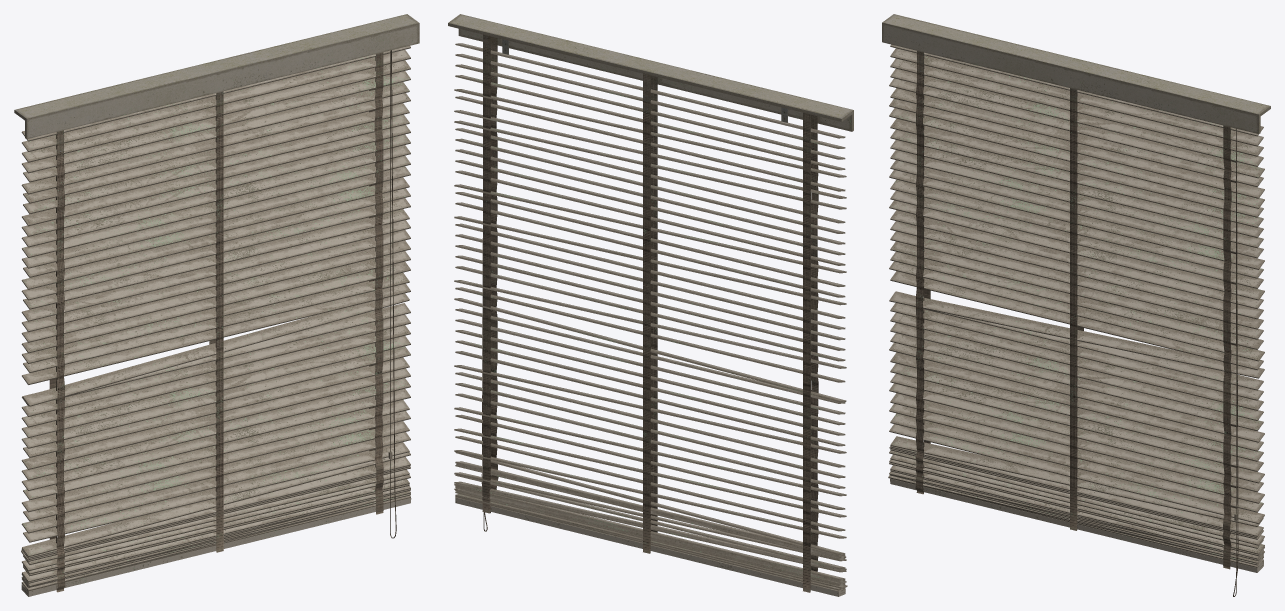
The model's file is JalousieC.fbx.
3 views of the same model, side by side, from view 1: azimuth 30°, elevation 25°; view 2: azimuth 150°, elevation 25°; view 3: azimuth 330°, elevation 25° (orthographic). The views are drawn at different scales.
Visible parts, largest first — view 1: JalousieC_LOD0; view 2: JalousieC_LOD0; view 3: JalousieC_LOD0.
Part boxes in pixels (x1,y1,x2,y2): JalousieC_LOD0: (14,14,419,596); JalousieC_LOD0: (448,14,853,596); JalousieC_LOD0: (882,14,1270,596).
Size of what is drawn, in the model's own units: 130 by 161 by 7.85.
